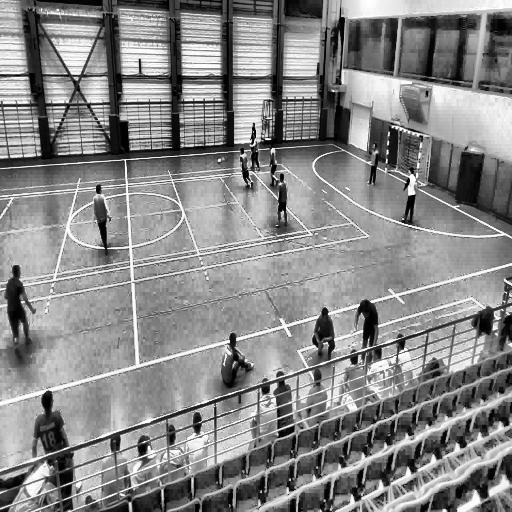ball: (217, 156, 222, 164)
player: (6, 265, 36, 360), (221, 332, 252, 404), (354, 297, 378, 365), (311, 304, 336, 364), (94, 182, 111, 256), (400, 166, 418, 226), (276, 171, 288, 229), (239, 146, 253, 190), (367, 141, 379, 188), (249, 132, 261, 175), (268, 139, 278, 187), (249, 120, 256, 146)
